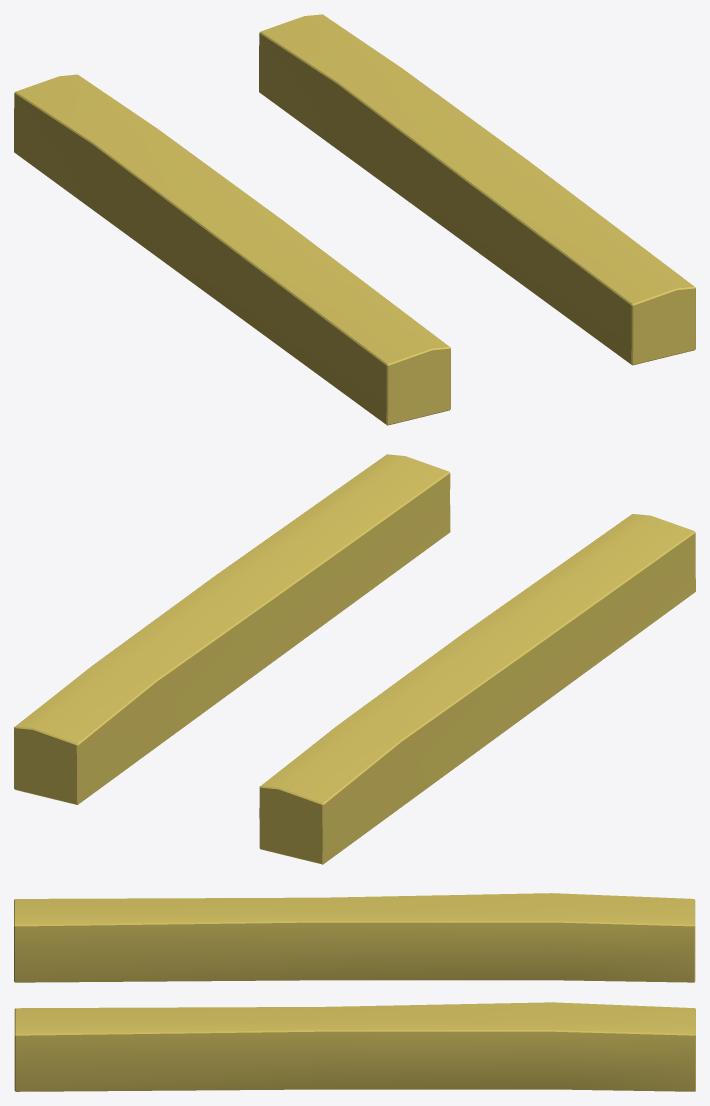
The model's file is Wood_Platform_01B_Lod0.fbx.
3 renders of one model, top to bottom at view 1: azimuth 30°, elevation 25°; view 2: azimuth 150°, elevation 25°; view 3: azimuth 270°, elevation 25°, orthographic. The views are drawn at different scales.
Visible parts, largest first — view 1: Wood_Platform_01B_Lod0; view 2: Wood_Platform_01B_Lod0; view 3: Wood_Platform_01B_Lod0.
Boxes of the visible parts, box(x1,y1,x2,y2) form: Wood_Platform_01B_Lod0: box(14, 14, 695, 425); Wood_Platform_01B_Lod0: box(14, 454, 695, 864); Wood_Platform_01B_Lod0: box(14, 893, 695, 1091).
Bounding box in the file's own units: 146 × 30.07 × 300.
